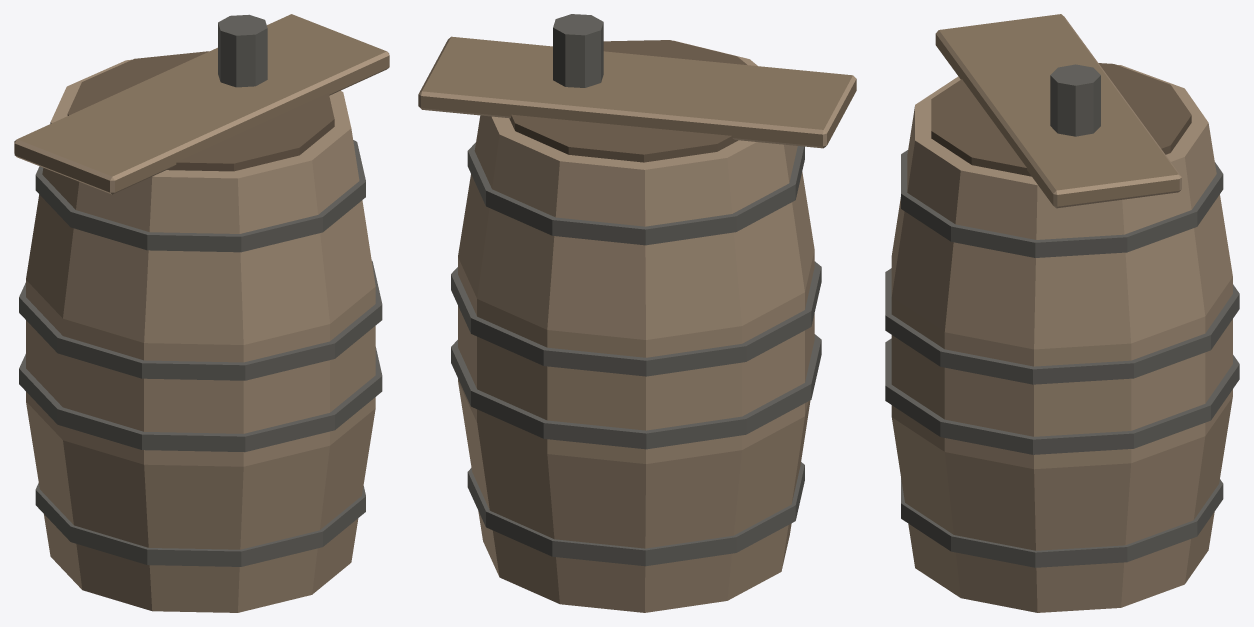
Rendered from barrel_2_3.glb.
The picture shows the model from 3 angles, left to right: view 1: azimuth 30°, elevation 25°; view 2: azimuth 150°, elevation 25°; view 3: azimuth 270°, elevation 25°; orthographic projection. The views are drawn at different scales.
Parts seen in each view (by area): view 1: Barrel_2_3; view 2: Barrel_2_3; view 3: Barrel_2_3.
Boxes of the visible parts, box(x1,y1,x2,y2) form: Barrel_2_3: box(14, 14, 389, 612); Barrel_2_3: box(418, 14, 856, 612); Barrel_2_3: box(885, 14, 1239, 612).
Bounding box in the file's own units: 0.7552 × 0.98 × 0.631.
